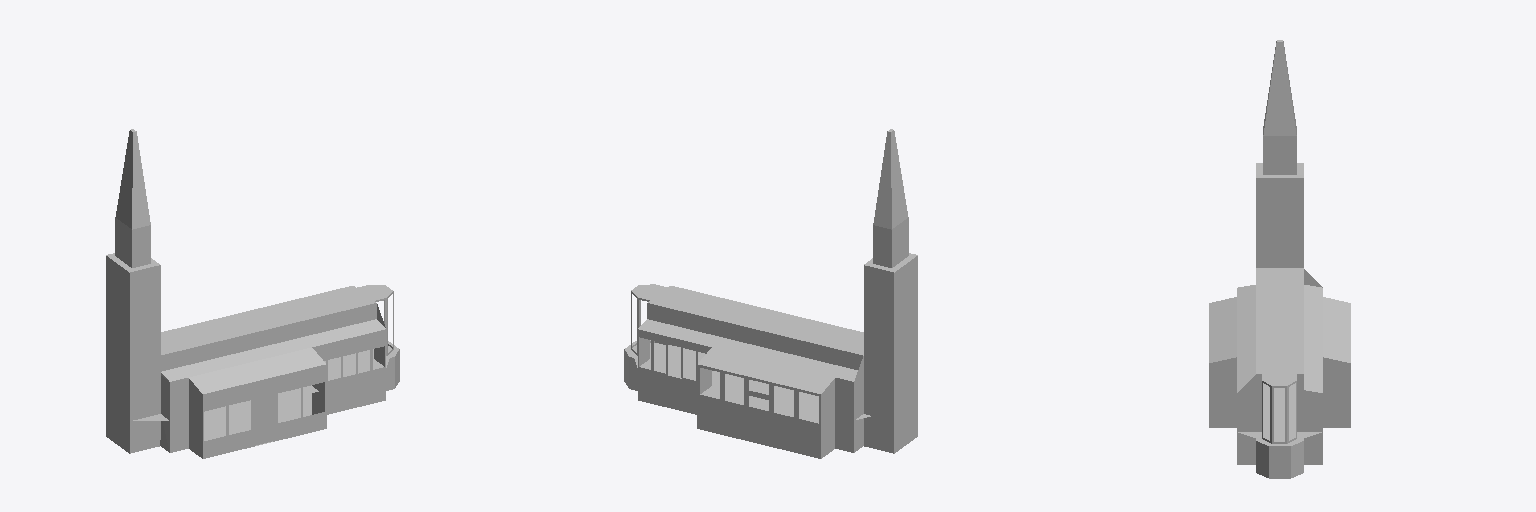
The model's file is cov-cathedral.obj.
The picture shows the model from 3 angles: view 1: azimuth 30°, elevation 25°; view 2: azimuth 150°, elevation 25°; view 3: azimuth 270°, elevation 25°; orthographic projection.
Visible parts, largest first — view 1: Cube; view 2: Cube; view 3: Cube.
Boxes of the visible parts, box(x1,y1,x2,y2) form: Cube: box(106, 129, 399, 458); Cube: box(624, 129, 917, 458); Cube: box(1209, 40, 1350, 478).
Bounding box in the file's own units: 22.37 × 24 × 10.